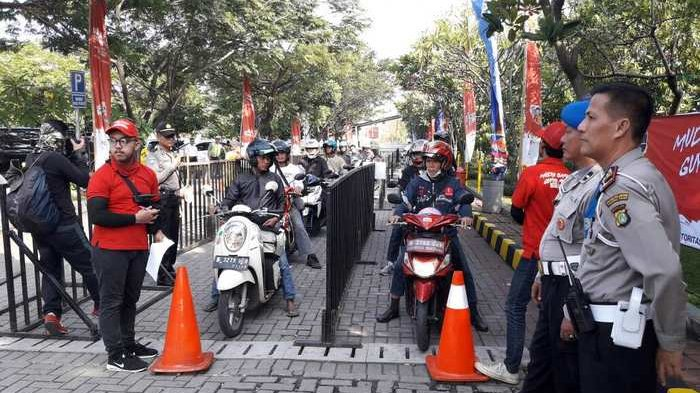plate: (212, 255, 249, 271), (405, 239, 444, 254)
